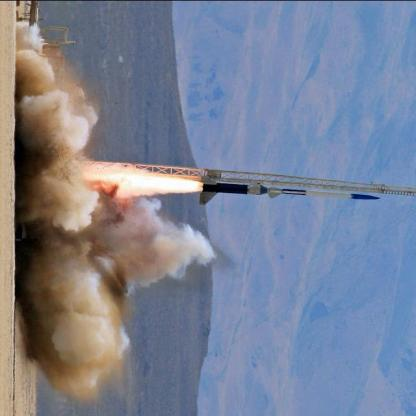MIL_TBM: (200, 181, 382, 204), (302, 189, 384, 203)
